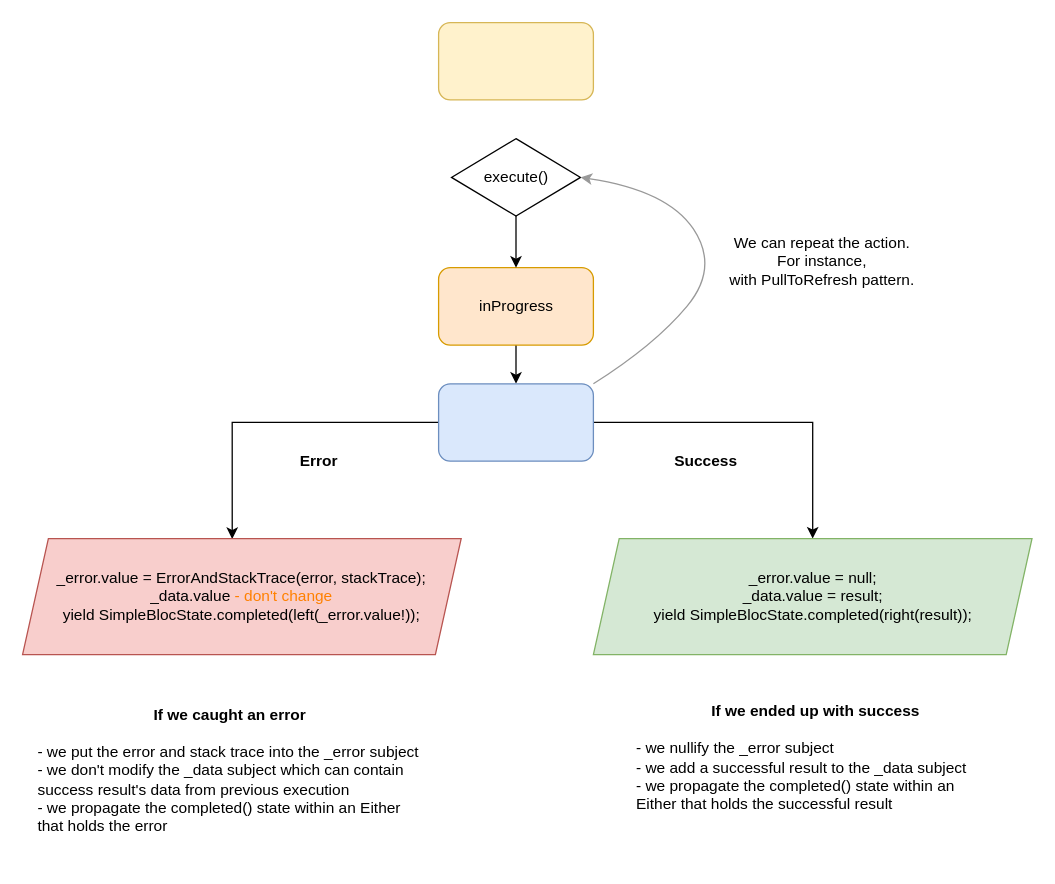
The diagram is 1055 pixels wide and 884 high, and some of its shapes have lost their labels. Each missing label, with the centre of its shape:
completed: point 515,421
idle: point 515,60
